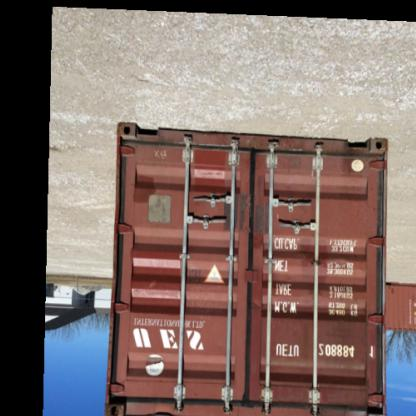Damage: (216, 186, 282, 236), (142, 346, 178, 376), (299, 242, 329, 278), (142, 140, 172, 164), (248, 296, 266, 320), (142, 280, 160, 298)
